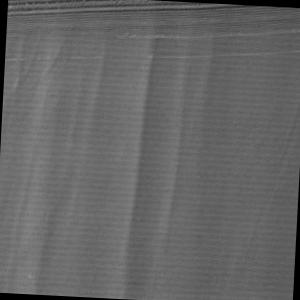Wrinkle: (19, 26, 110, 299), (113, 27, 201, 300)
